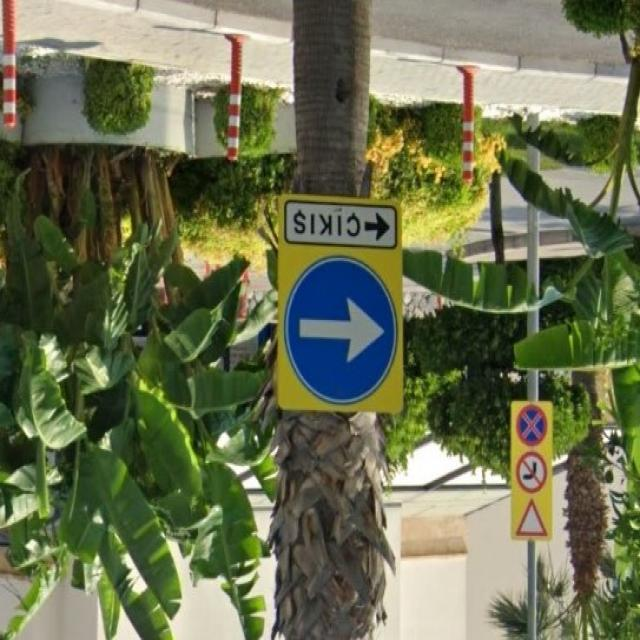Turn Right: (280, 248, 402, 413)
